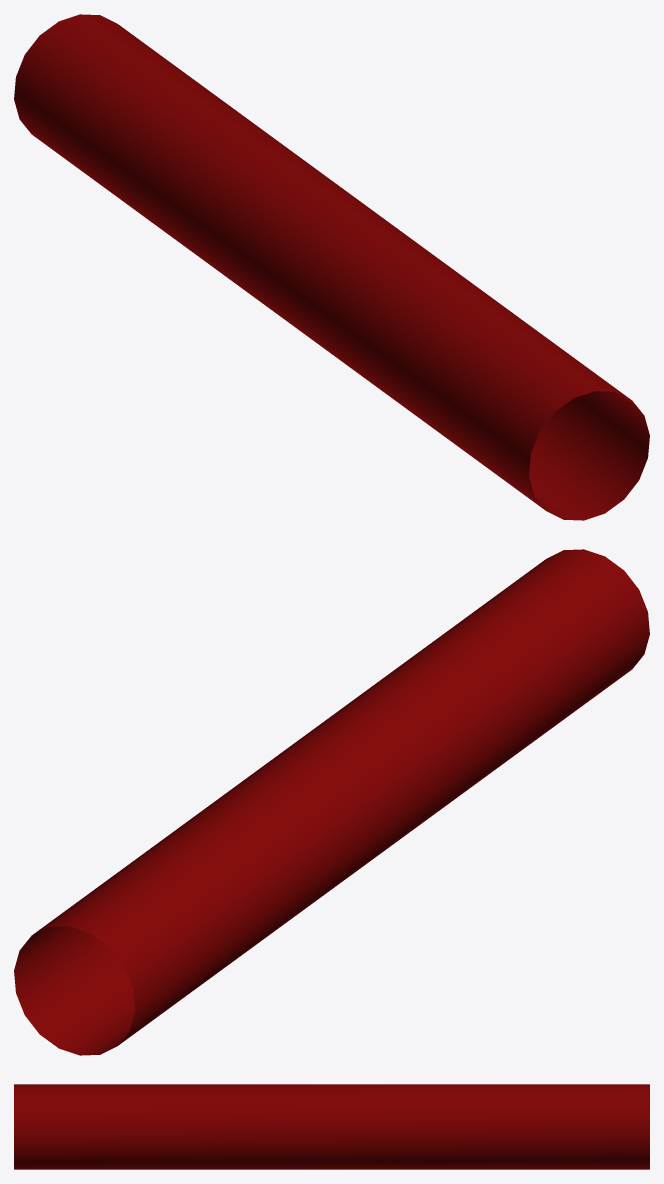
3 renders of one model, top to bottom at view 1: azimuth 30°, elevation 25°; view 2: azimuth 150°, elevation 25°; view 3: azimuth 270°, elevation 25°, orthographic. The views are drawn at different scales.
Visible parts, largest first — view 1: AT_CYLINDER; view 2: AT_CYLINDER; view 3: AT_CYLINDER.
Boxes of the visible parts, x1,y1,x2,y2 form: AT_CYLINDER: (14, 14, 649, 520); AT_CYLINDER: (14, 549, 649, 1055); AT_CYLINDER: (14, 1084, 649, 1169).
Size of the model in its own units: 10.59 by 78 by 10.58.
